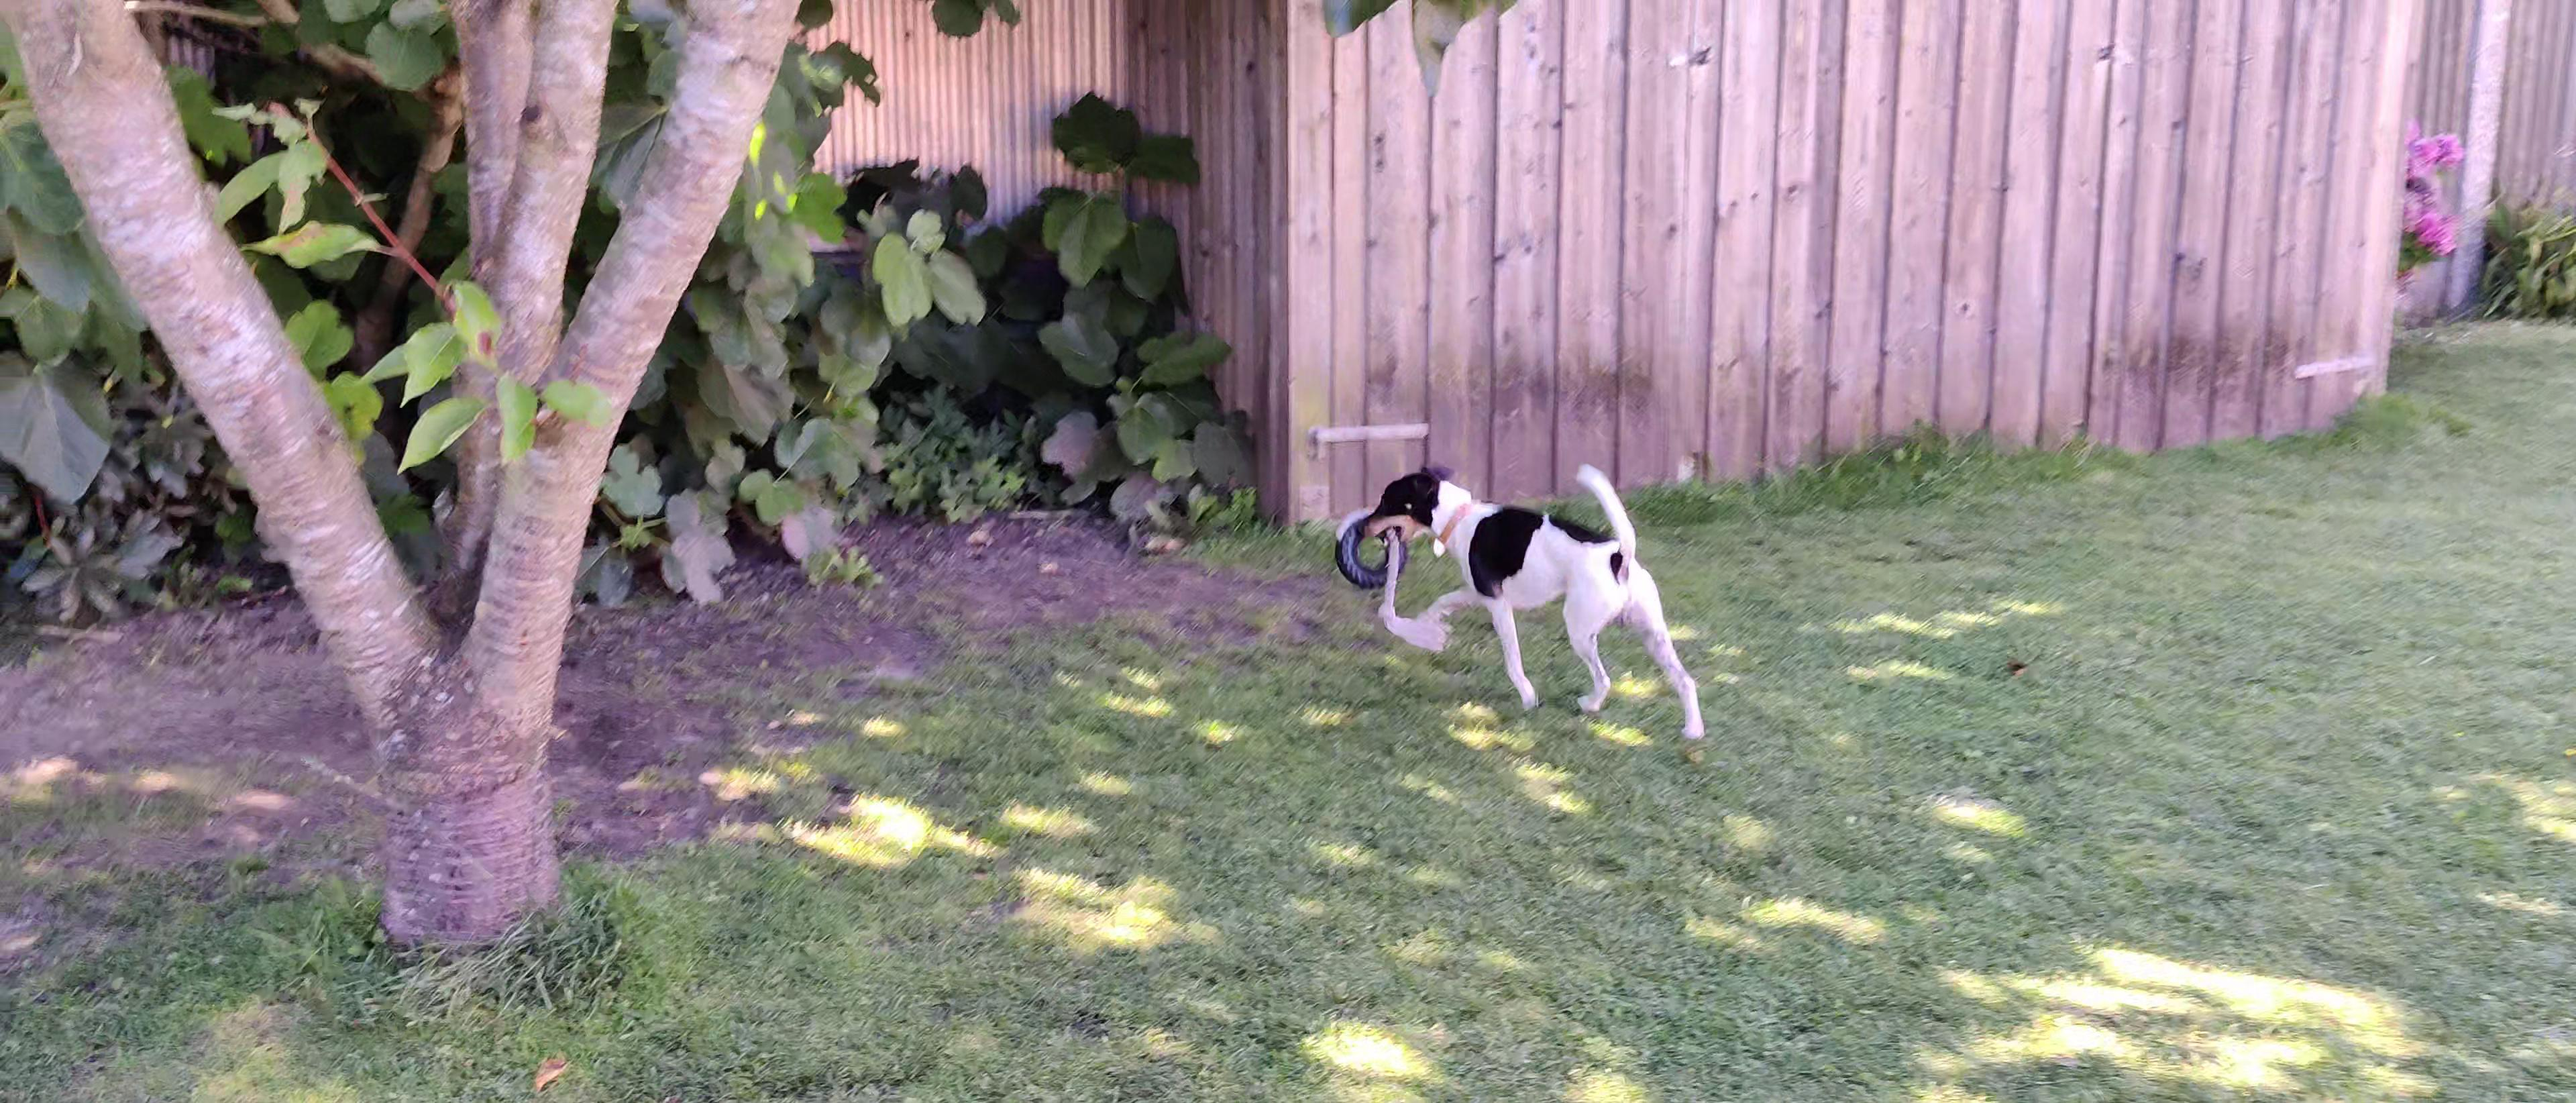Dog: (1350, 460, 1712, 741)
